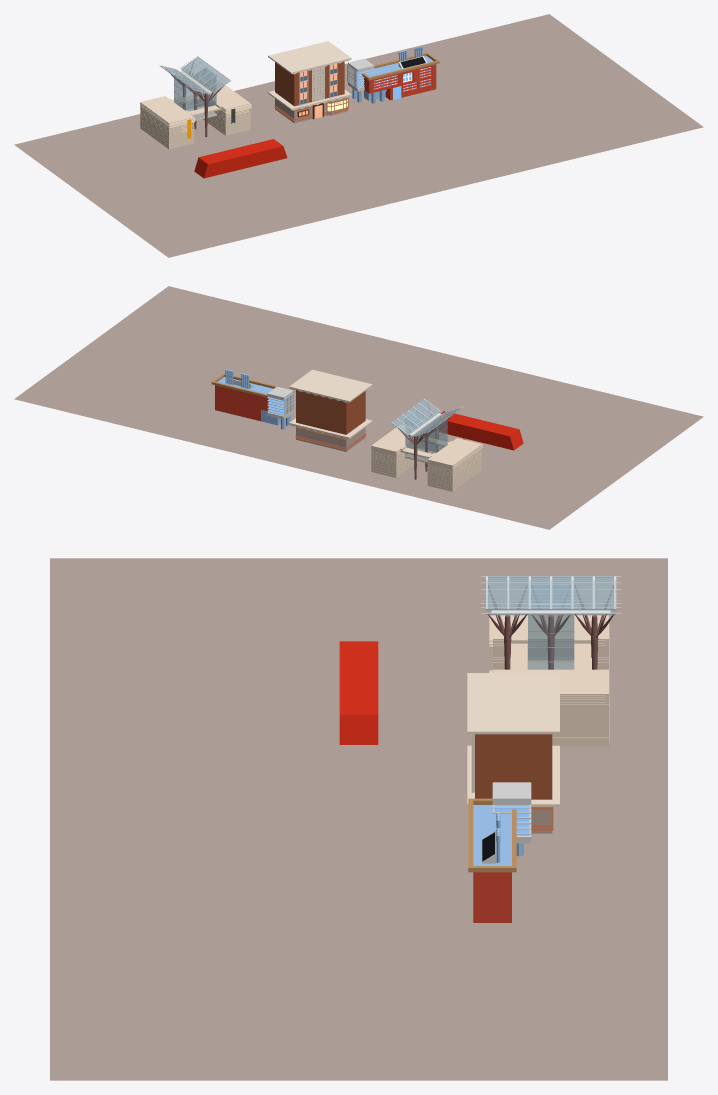
The model's file is university.glb.
The picture shows the model from 3 angles, top to bottom: view 1: azimuth 30°, elevation 25°; view 2: azimuth 150°, elevation 25°; view 3: azimuth 270°, elevation 25°; orthographic projection. The views are drawn at different scales.
Visible parts, largest first — view 1: Plane, right.001, lightrail, roof1.003, Cube.009, right, Cube.002, baseceiling, base, Cube.016, Cube.042, Cube.001 (+3 smaller); view 2: Plane, Cube.002, right.001, lightrail, right, roof1.003, Cube.009, baseceiling, base, Cube.001, Cube.016, roof1.002; view 3: Plane, roof1.003, baseceiling, Cube.002, right, lightrail, base, right.001, Cube.009, Cube.015, Cube.016, Cube.024 (+1 smaller).
Boxes of the visible parts, x1=… form: Plane: x1=14, y1=14, x2=703, y2=257; right.001: x1=140, y1=96, x2=194, y2=149; lightrail: x1=194, y1=139, x2=287, y2=178; roof1.003: x1=268, y1=41, x2=351, y2=74; Cube.009: x1=364, y1=64, x2=436, y2=100; right: x1=197, y1=82, x2=250, y2=135; Cube.002: x1=275, y1=61, x2=344, y2=106; baseceiling: x1=160, y1=57, x2=229, y2=93; base: x1=174, y1=68, x2=216, y2=118; Cube.016: x1=362, y1=52, x2=439, y2=80; Cube.042: x1=311, y1=66, x2=324, y2=102; Cube.001: x1=275, y1=98, x2=326, y2=123; Plane: x1=14, y1=286, x2=703, y2=529; Cube.002: x1=296, y1=389, x2=365, y2=434; right.001: x1=427, y1=438, x2=481, y2=491; lightrail: x1=435, y1=411, x2=523, y2=450; right: x1=371, y1=425, x2=424, y2=477; roof1.003: x1=289, y1=369, x2=372, y2=402; Cube.009: x1=215, y1=385, x2=268, y2=421; baseceiling: x1=391, y1=399, x2=461, y2=436; base: x1=405, y1=410, x2=447, y2=461; Cube.001: x1=296, y1=426, x2=365, y2=451; Cube.016: x1=211, y1=373, x2=294, y2=397; roof1.002: x1=289, y1=418, x2=372, y2=439; Plane: x1=50, y1=558, x2=667, y2=1080; roof1.003: x1=467, y1=673, x2=559, y2=734; baseceiling: x1=486, y1=576, x2=616, y2=614; Cube.002: x1=475, y1=734, x2=552, y2=799; right: x1=493, y1=669, x2=608, y2=746; lightrail: x1=339, y1=641, x2=378, y2=744; base: x1=528, y1=584, x2=574, y2=669; right.001: x1=493, y1=615, x2=608, y2=669; Cube.009: x1=473, y1=872, x2=511, y2=922; Cube.015: x1=473, y1=805, x2=511, y2=865; Cube.016: x1=468, y1=798, x2=516, y2=872; Cube.024: x1=492, y1=782, x2=531, y2=843.
Bounding box in the file's own units: 64 × 6.41 × 32.
